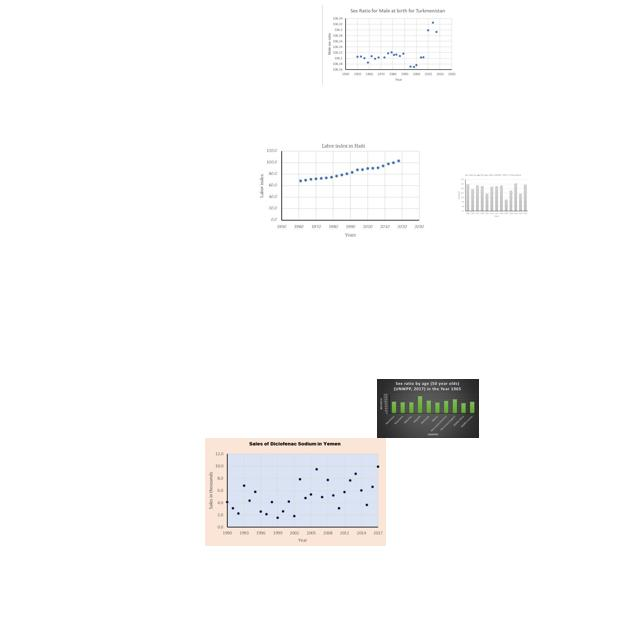Graph: (205, 438, 386, 546), (258, 141, 426, 238), (322, 5, 459, 85), (377, 379, 479, 438), (456, 173, 529, 218)
